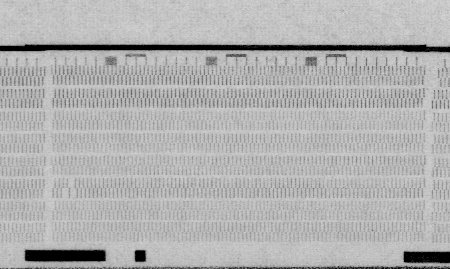Broken hole: (60, 177, 80, 200), (430, 64, 442, 89)
